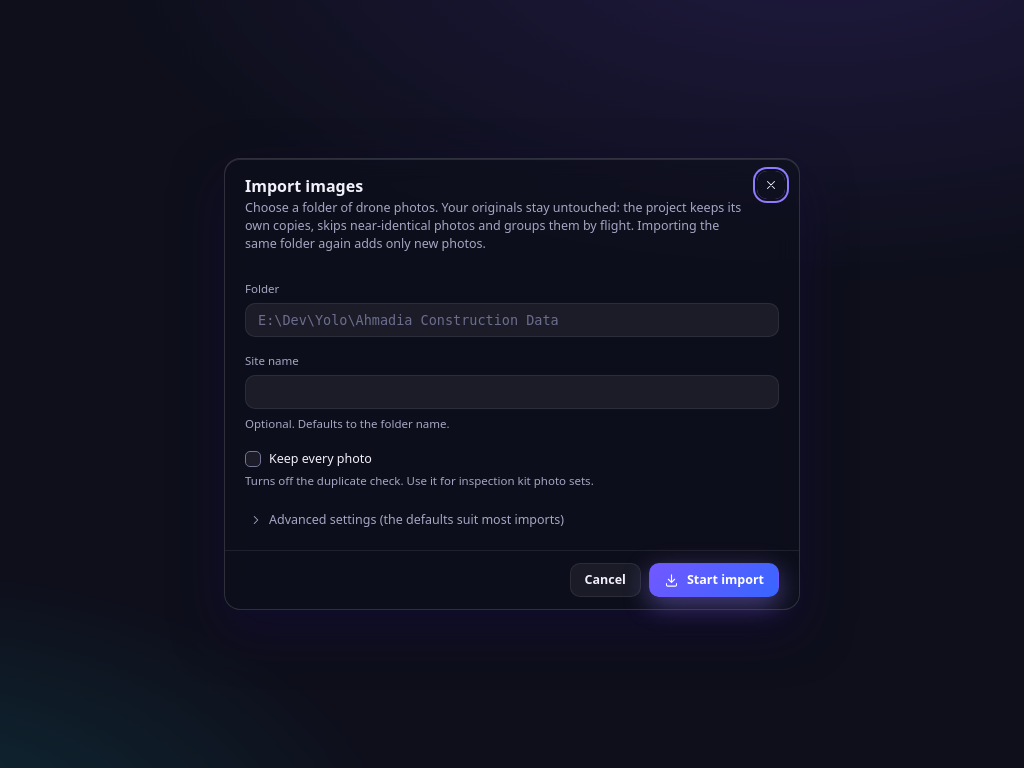
Test: ImportImagesDialog › keeps the preparation settings under Advanced, each with a plain explanation
Expected: the field labelled "Group regex" is not shown
What coordinates should you click on to do the following:
click the button "Advanced settings (the defaults suit most imports)"
I would click on:
 (408, 520)
Its box is [245,506,572,534].
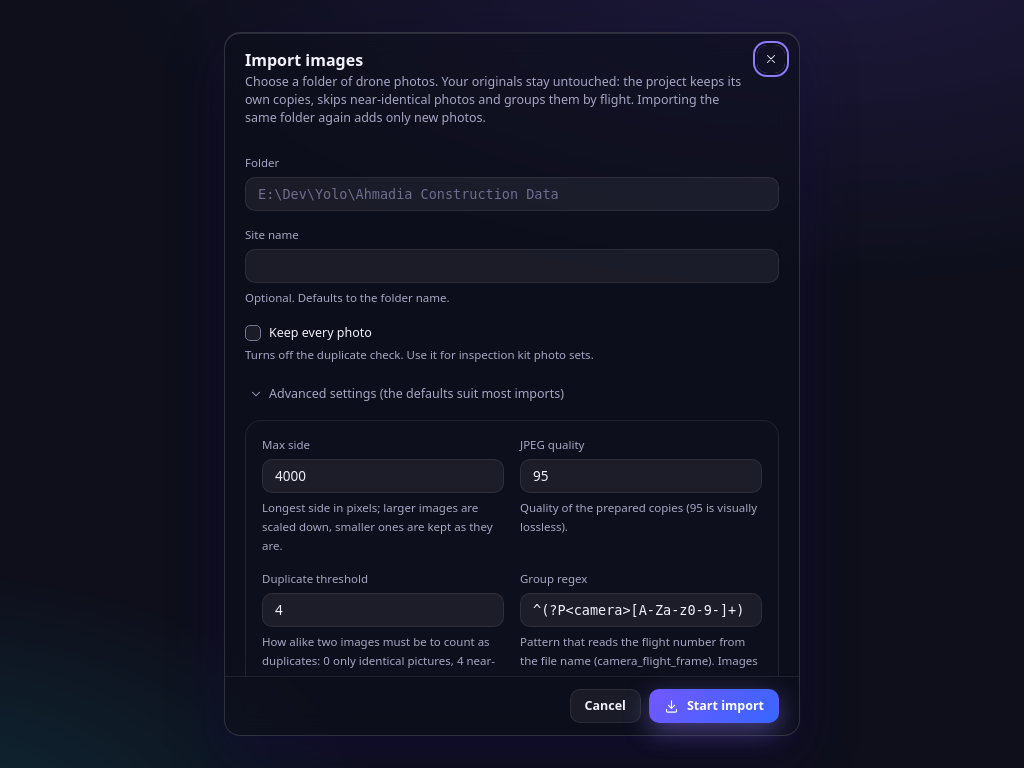
Now the button "Advanced settings (the defaults suit most imports)" is expanded, box [245,380,572,408]
Now the text "Longest side in pixels; larger images are scaled down" is shown, box [262,500,493,553]
Now the text "How alike two images must be to count as duplicates" is shown, box [262,634,495,676]
